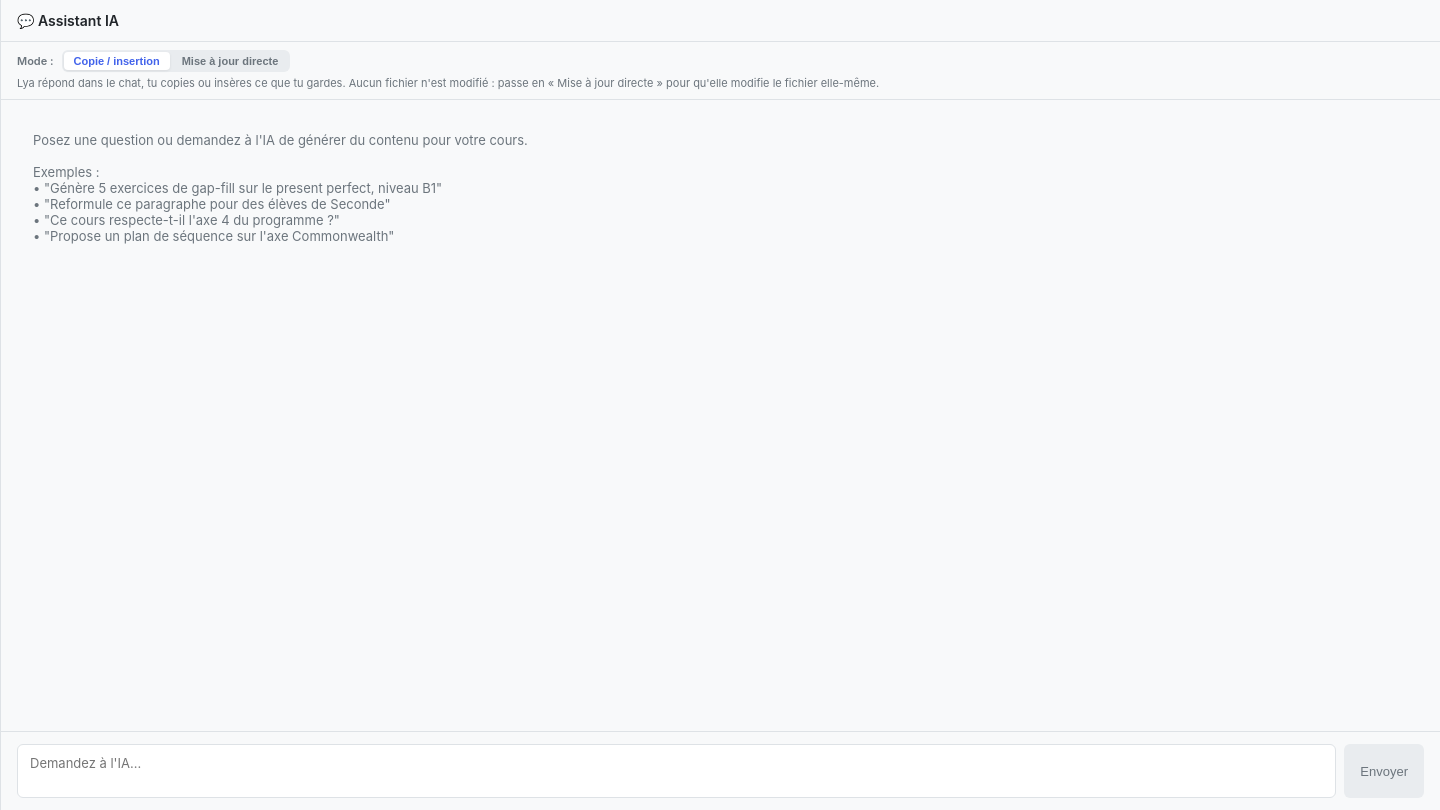
Test case: Chat › identity is in every system prompt
Type "First question" into the text box with placeholder "Demandez à l'IA...".
click(677, 771); type("First question")  # box x1=17 y1=744 x2=1336 y2=798
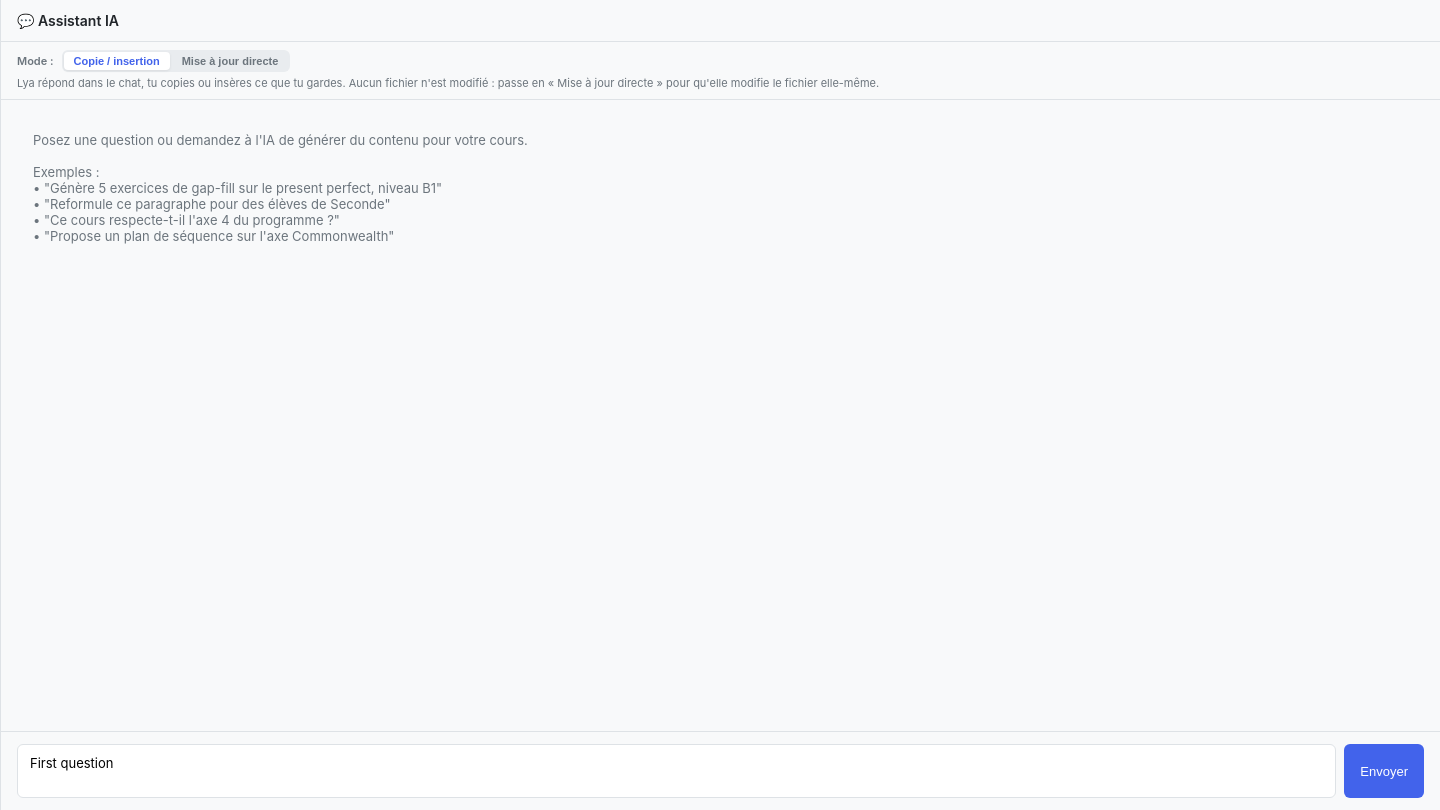
Click the button "Envoyer".
click(1384, 771)  # box x1=1344 y1=744 x2=1424 y2=798
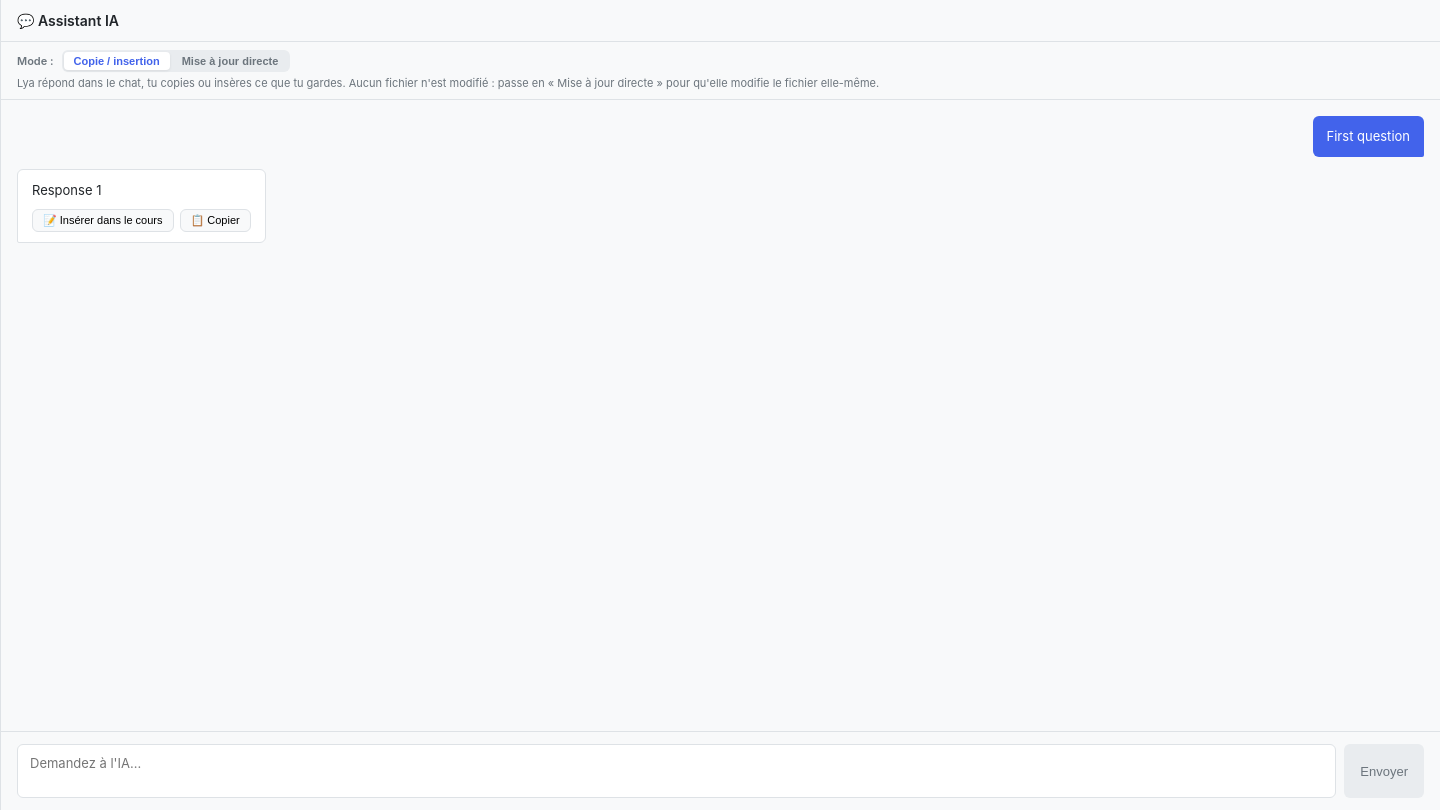
expect the text "First question" is shown: met, box x1=1326 y1=126 x2=1410 y2=147
Type "Second question" into the text box with placeholder "Demandez à l'IA...".
click(677, 771); type("Second question")  # box x1=17 y1=744 x2=1336 y2=798
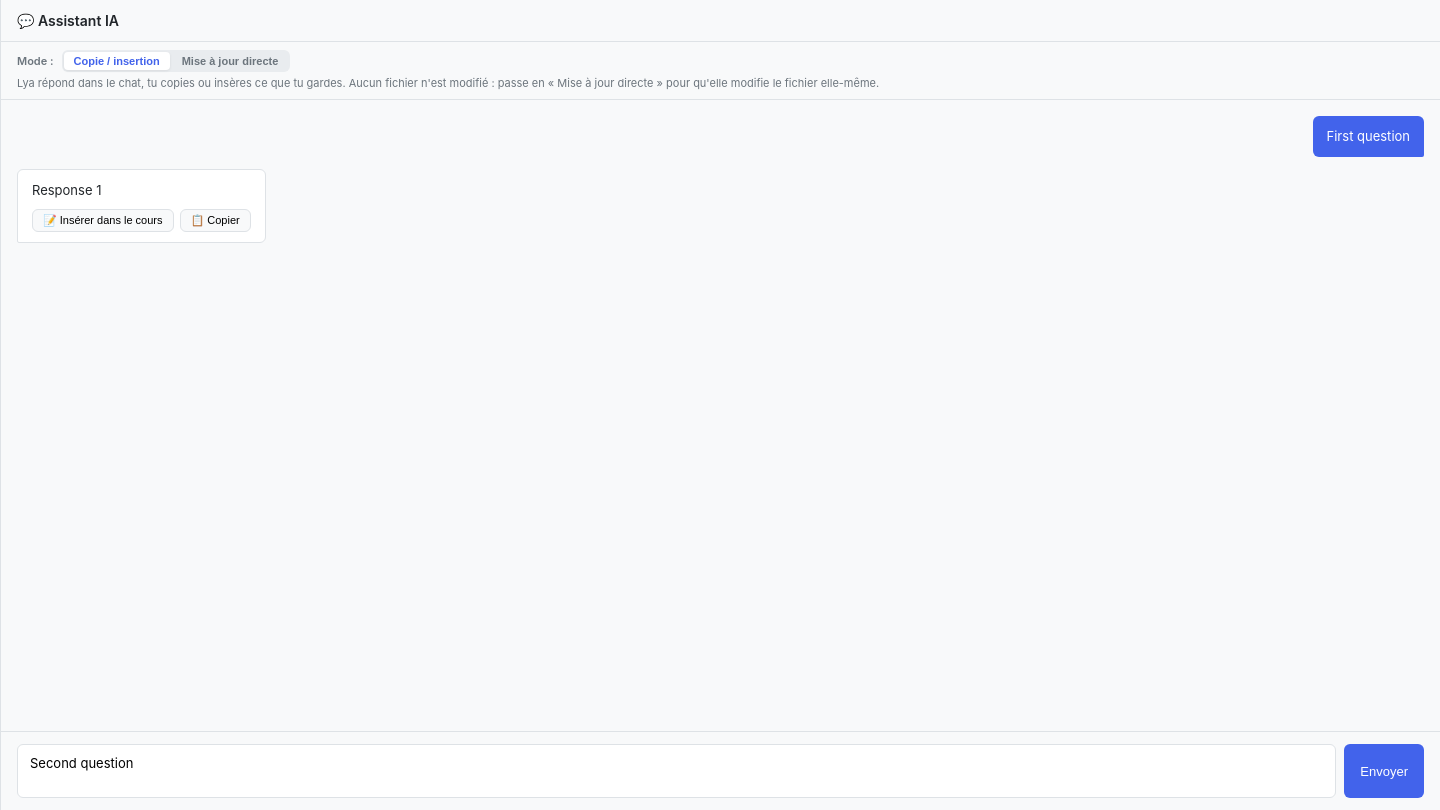
expect the button "Envoyer" is enabled: met
Click the button "Envoyer".
click(1384, 771)  # box x1=1344 y1=744 x2=1424 y2=798
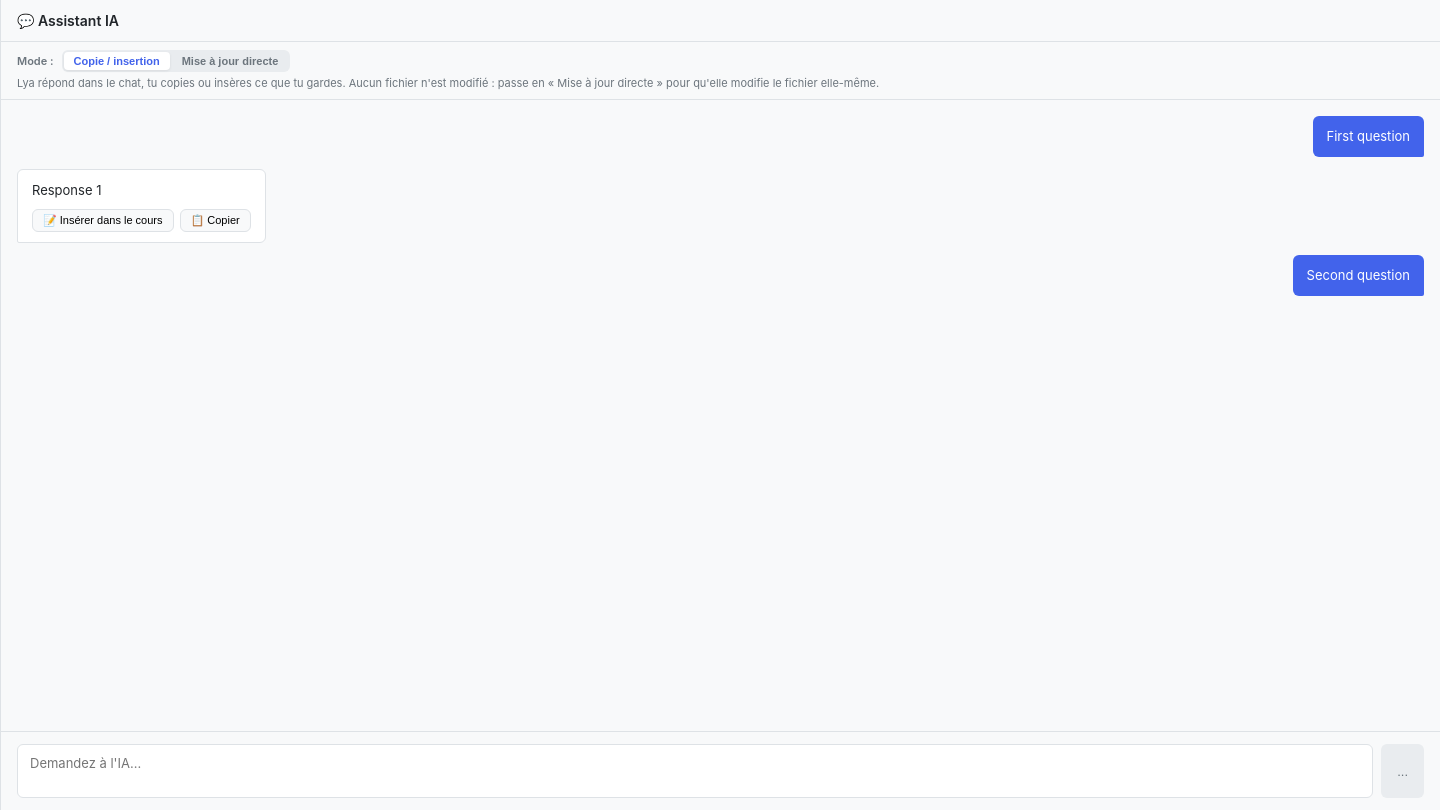
expect the text "Second question" is shown: met, box x1=1307 y1=265 x2=1410 y2=286
